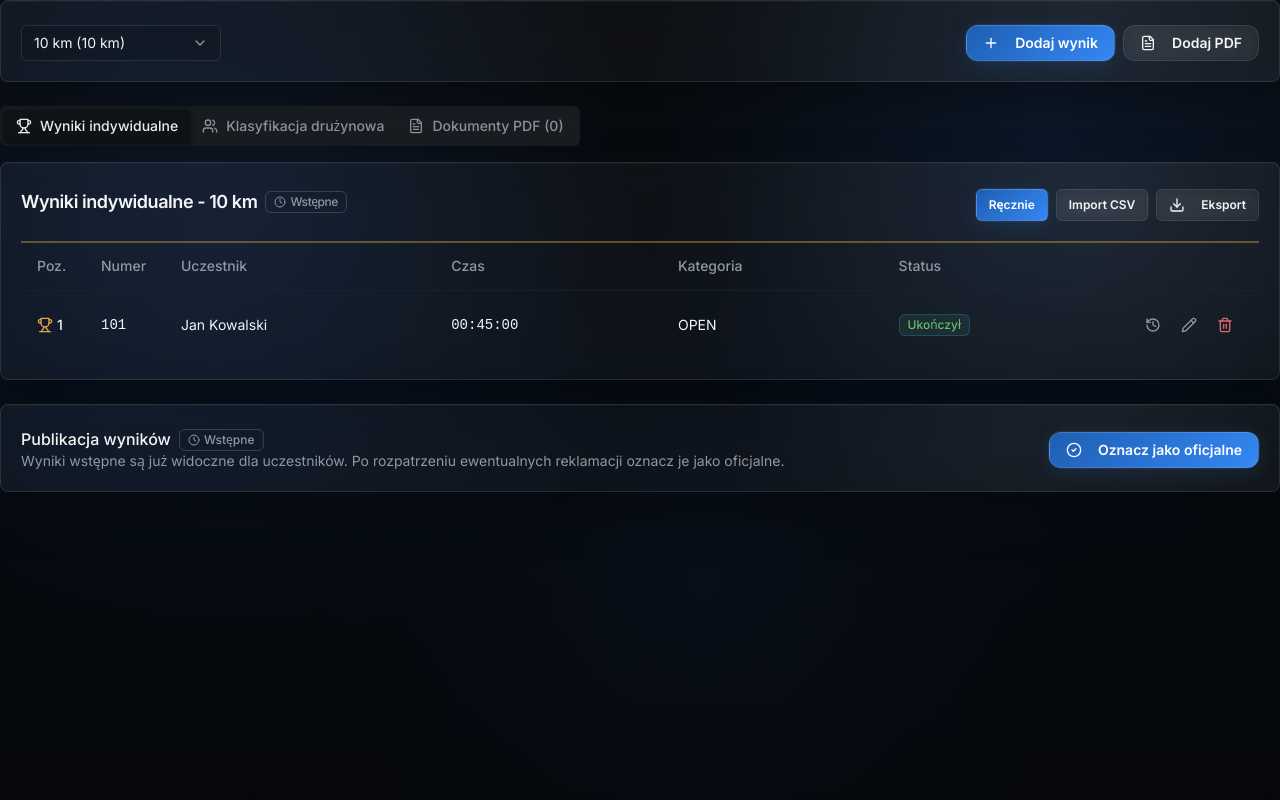
Test: ResultsTab result corrections › opens the correction history of a result from its row
Click the button named "Historia korekt" at (1153, 324), box [1135, 306, 1171, 342]
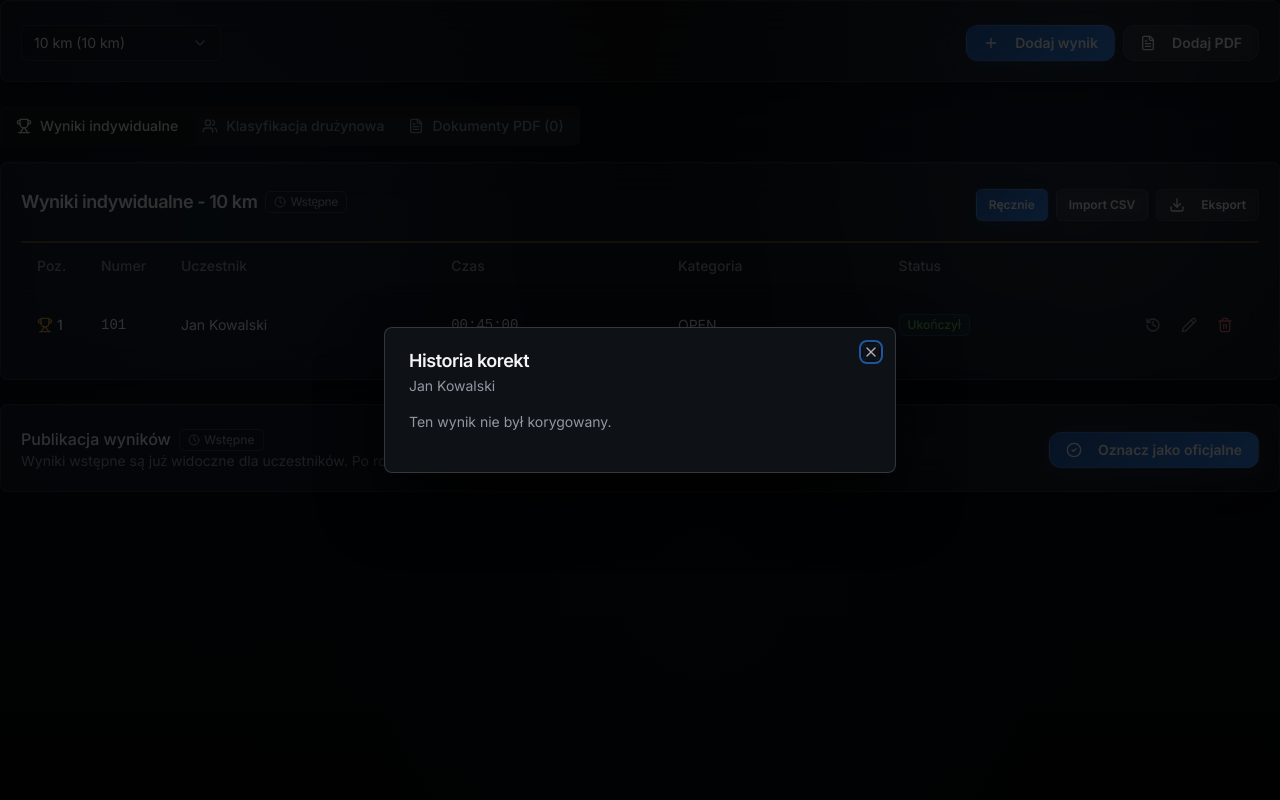
Expected: the text "Ten wynik nie był korygowany." is shown, [409, 413, 612, 430]
